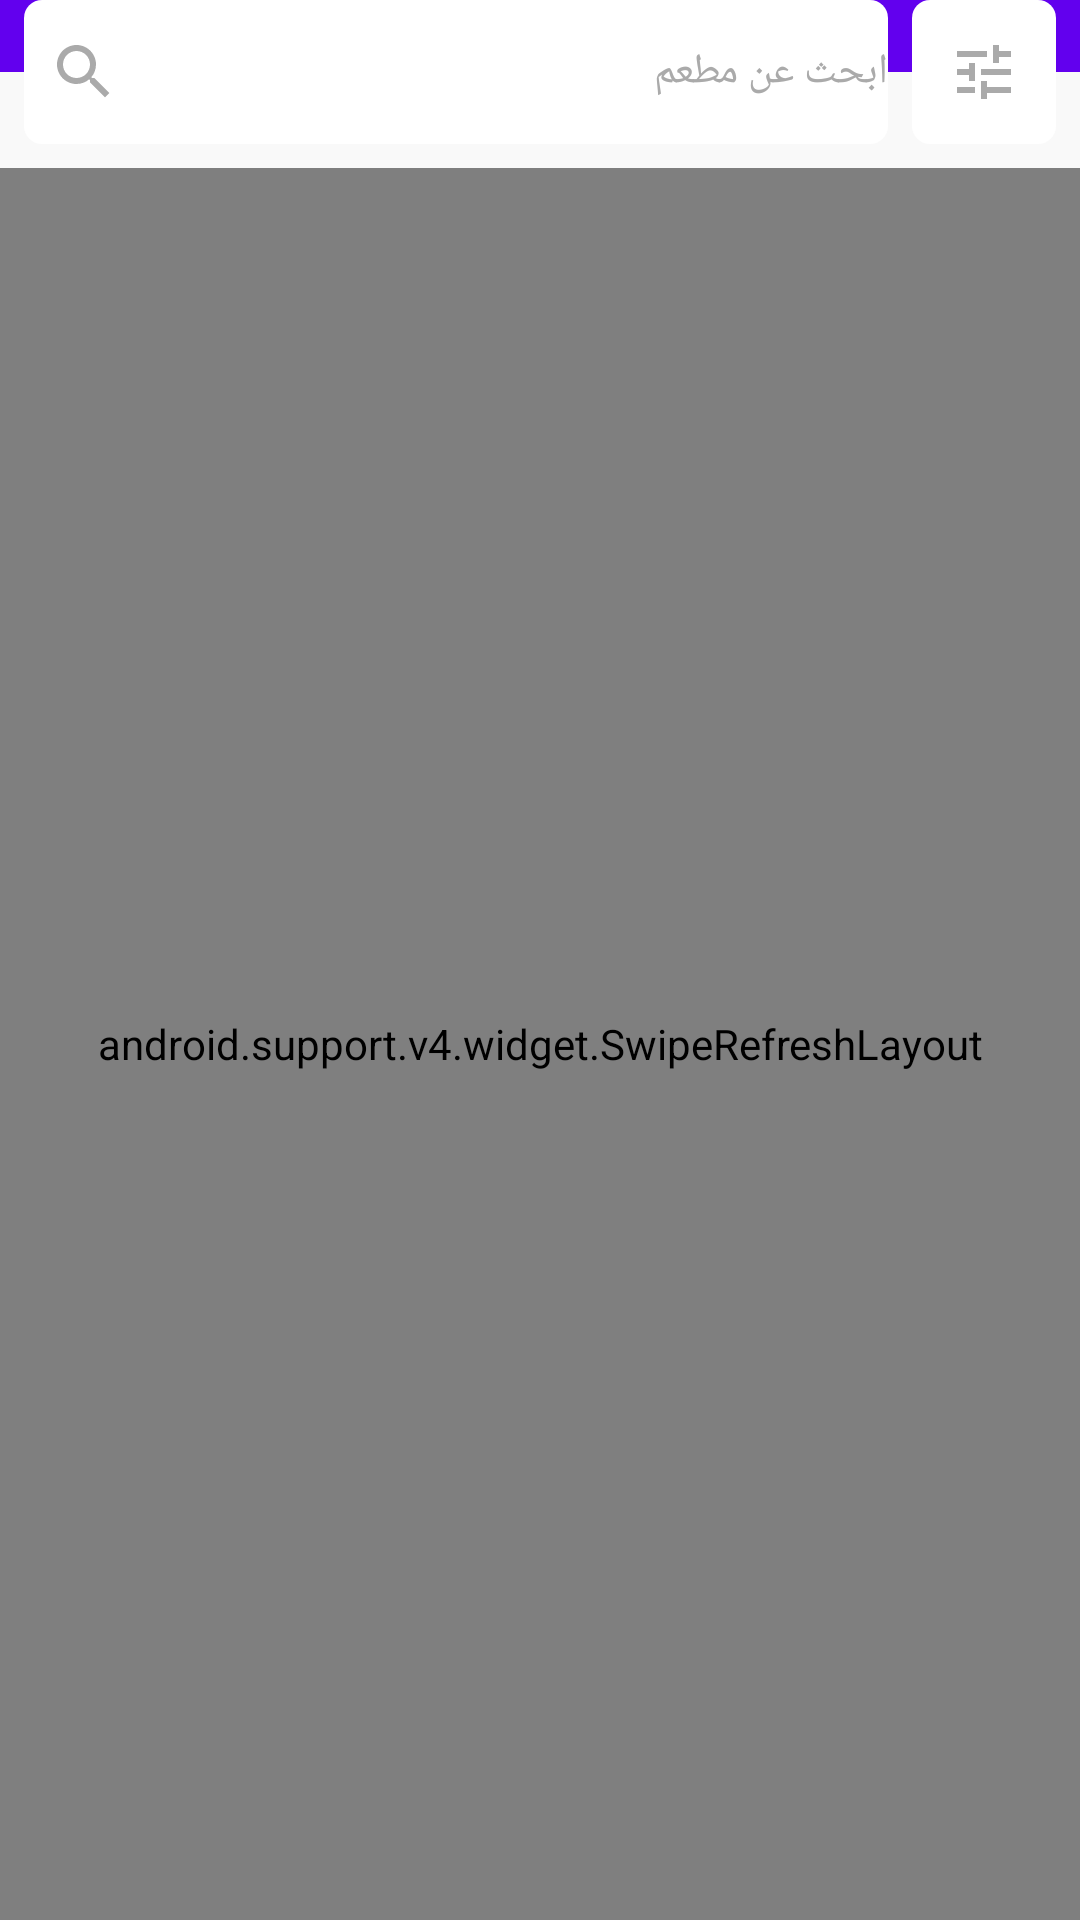

Icons on this 1080w x 1920h Android screen, each with its box as bbox=[x1, y1, x2, y2]:
tune: bbox=[957, 45, 1011, 99]
